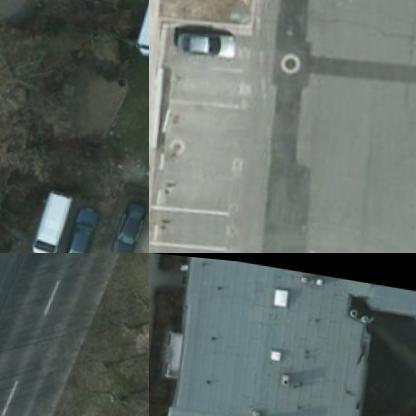car: (165, 22, 240, 56), (38, 190, 74, 251), (68, 199, 106, 252), (116, 193, 148, 252)
